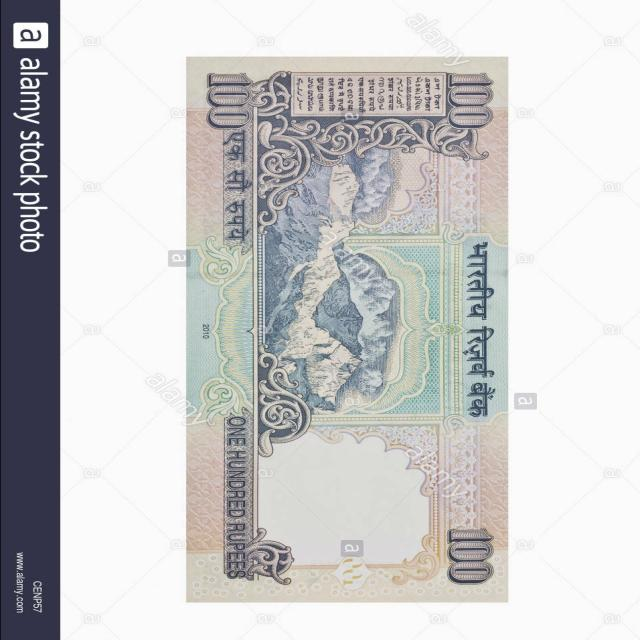100IndianRupees: (186, 58, 508, 608)
